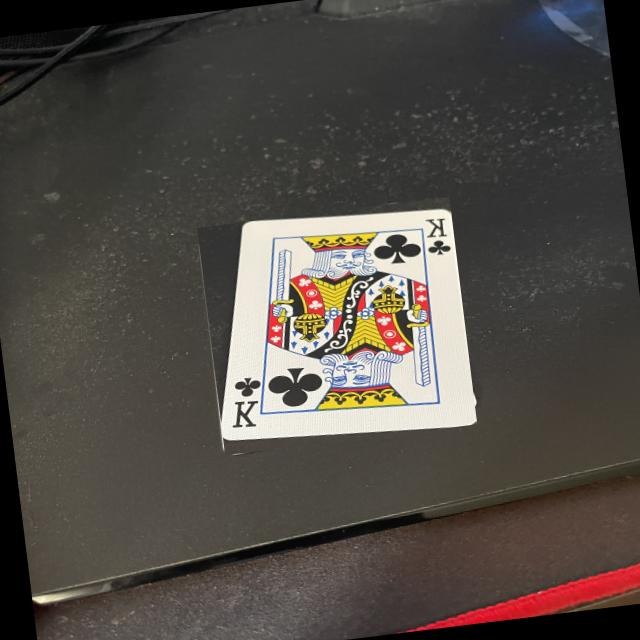King of clubs: (222, 208, 475, 438)
